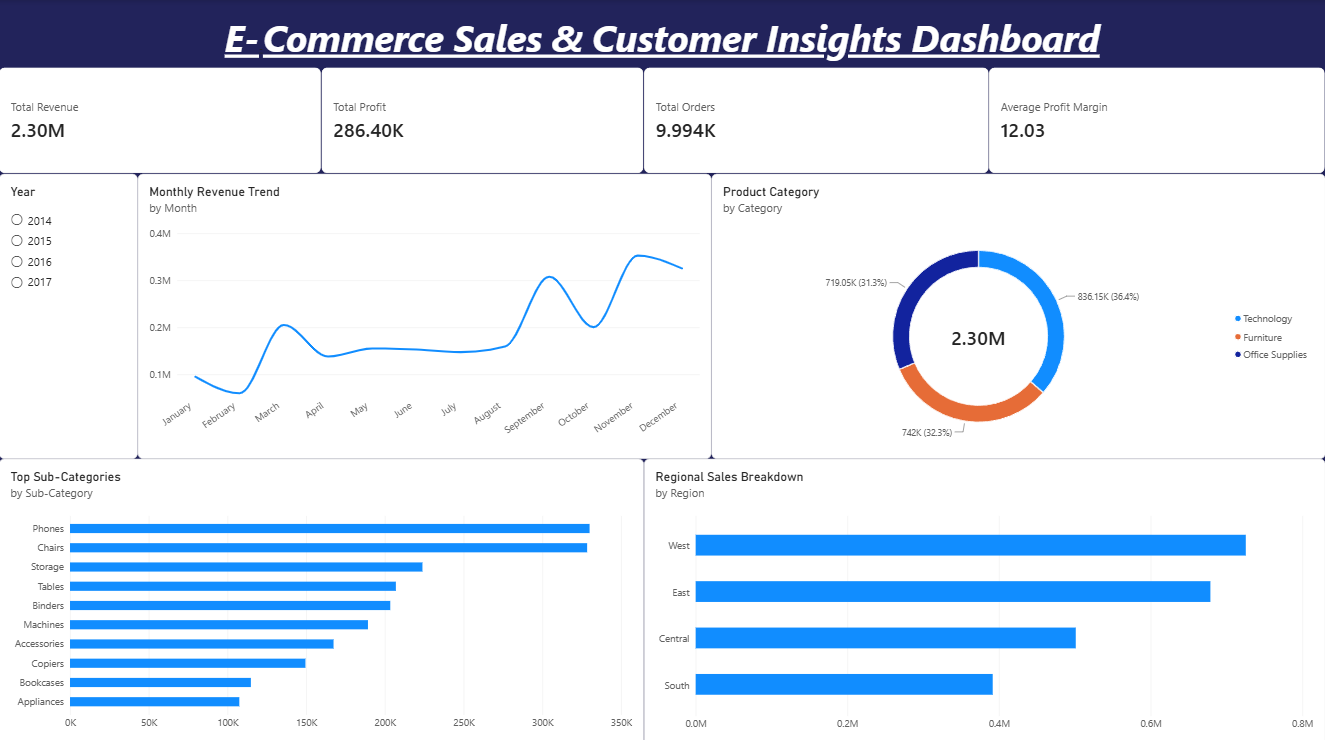

This screenshot's page, from the dashboard's own definition file:
{"tool":"powerbi","page":{"name":"Page 1","canvas":[1920,1080],"ordinal":0},"visuals":[{"type":"cardVisual","fields":{"Data":["Sum(Cleaned_Superstore_Data.Sales)"]},"box":[0,97.7,466.9,153.8],"z":0},{"type":"cardVisual","fields":{"Data":["Sum(Cleaned_Superstore_Data.Profit)"]},"box":[466.9,97.7,466.9,153.8],"z":1000},{"type":"cardVisual","fields":{"Data":["CountNonNull(Cleaned_Superstore_Data.Order ID)"]},"box":[933.8,97.7,499.5,153.8],"z":2000},{"type":"cardVisual","fields":{"Data":["Avg(Cleaned_Superstore_Data.Profit_Margin)"]},"box":[1433.3,97.7,486.8,153.8],"z":3000},{"type":"lineChart","fields":{"Category":["Cleaned_Superstore_Data.Order Date.Variation.Date Hierarchy.Month"],"Y":["Sum(Cleaned_Superstore_Data.Sales)"]},"box":[200.9,251.5,830.6,412.6],"z":4000},{"type":"clusteredBarChart","fields":{"Category":["Cleaned_Superstore_Data.Region"],"Y":["Sum(Cleaned_Superstore_Data.Sales)"]},"box":[933.8,664.1,986.3,416.2],"z":4001},{"type":"donutChart","fields":{"Category":["Cleaned_Superstore_Data.Category"],"Y":["Sum(Cleaned_Superstore_Data.Sales)"]},"box":[1031.5,251.5,888.5,412.6],"z":4002},{"type":"barChart","fields":{"Category":["Cleaned_Superstore_Data.Sub-Category"],"Y":["Sum(Cleaned_Superstore_Data.Sales)"]},"box":[0,664.1,933.8,414.4],"z":4003},{"type":"listSlicer","fields":{"Values":["Cleaned_Superstore_Data.Order Date.Variation.Date Hierarchy.Year"]},"box":[0,251.5,200.9,412.6],"z":4004},{"type":"textbox","box":[0,18.1,1920.1,79.6],"z":4005}]}

Visuals, with their boxes in screenshot pixels (x1, y1, x2, y2), scaled from the page's 1920x1080 canvas onto the 1325x740 screenshot:
cardVisual - Sum(Cleaned_Superstore_Data.Sales): locate(0, 67, 322, 172)
cardVisual - Sum(Cleaned_Superstore_Data.Profit): locate(322, 67, 644, 172)
cardVisual - CountNonNull(Cleaned_Superstore_Data.Order ID): locate(644, 67, 989, 172)
cardVisual - Avg(Cleaned_Superstore_Data.Profit_Margin): locate(989, 67, 1324, 172)
lineChart - Cleaned_Superstore_Data.Order Date.Variation.Date Hierarchy.Month x Sum(Cleaned_Superstore_Data.Sales): locate(139, 172, 712, 455)
clusteredBarChart - Cleaned_Superstore_Data.Region x Sum(Cleaned_Superstore_Data.Sales): locate(644, 455, 1324, 739)
donutChart - Cleaned_Superstore_Data.Category x Sum(Cleaned_Superstore_Data.Sales): locate(712, 172, 1324, 455)
barChart - Cleaned_Superstore_Data.Sub-Category x Sum(Cleaned_Superstore_Data.Sales): locate(0, 455, 644, 739)
listSlicer - Cleaned_Superstore_Data.Order Date.Variation.Date Hierarchy.Year: locate(0, 172, 139, 455)
textbox: locate(0, 12, 1324, 67)
